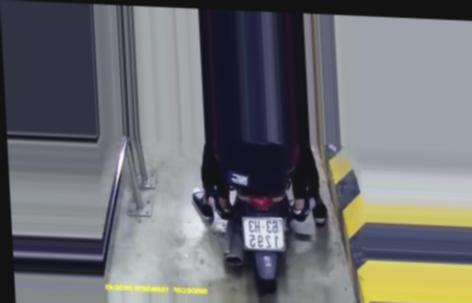License_Plate: (243, 212, 287, 254)
